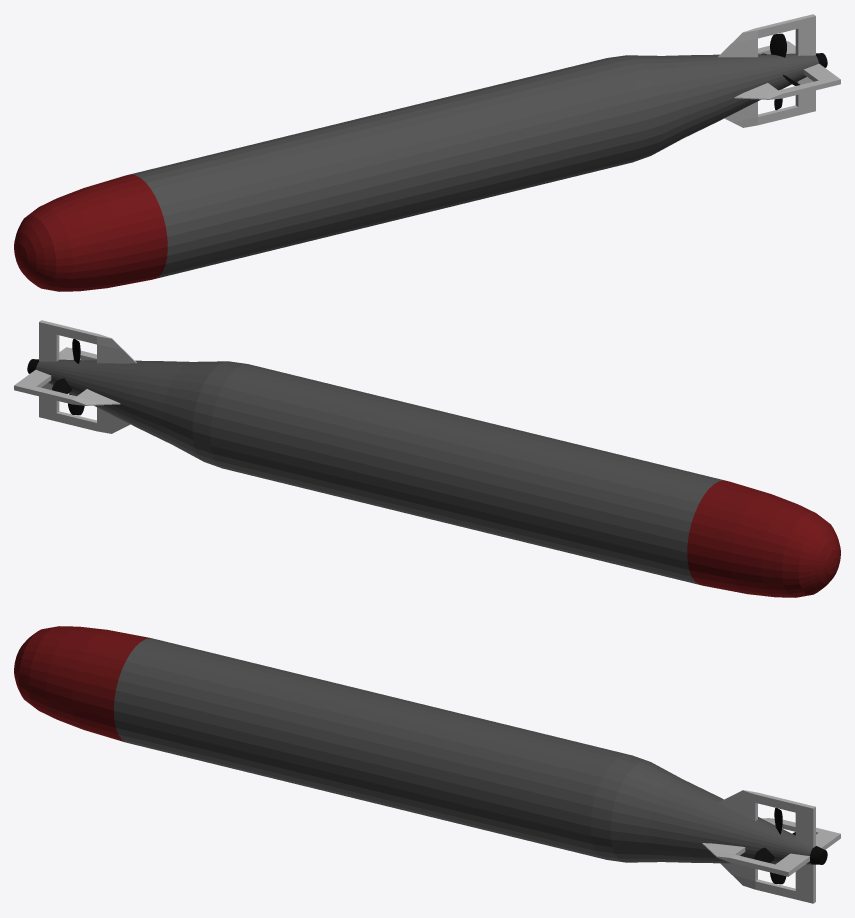
Rendered from torpedo.obj.
3 views of the same model, one above another, from view 1: azimuth 30°, elevation 25°; view 2: azimuth 150°, elevation 25°; view 3: azimuth 330°, elevation 25° (orthographic).
Visible parts, largest first — view 1: Fuselage_Cylinder, Fins_Cube.002; view 2: Fuselage_Cylinder, Fins_Cube.002, Propeller_Cube.006; view 3: Fuselage_Cylinder, Fins_Cube.002, Propeller_Cube.006.
Boxes of the visible parts, <box> form: Fuselage_Cylinder: <box>14,53,827,291</box>; Fins_Cube.002: <box>718,14,840,127</box>; Fuselage_Cylinder: <box>27,359,840,597</box>; Fins_Cube.002: <box>14,320,136,433</box>; Propeller_Cube.006: <box>52,339,84,415</box>; Fuselage_Cylinder: <box>14,626,827,864</box>; Fins_Cube.002: <box>702,790,840,903</box>; Propeller_Cube.006: <box>754,808,795,884</box>.
Bounding box in the file's own units: 4.38 × 0.5103 × 0.5103.
